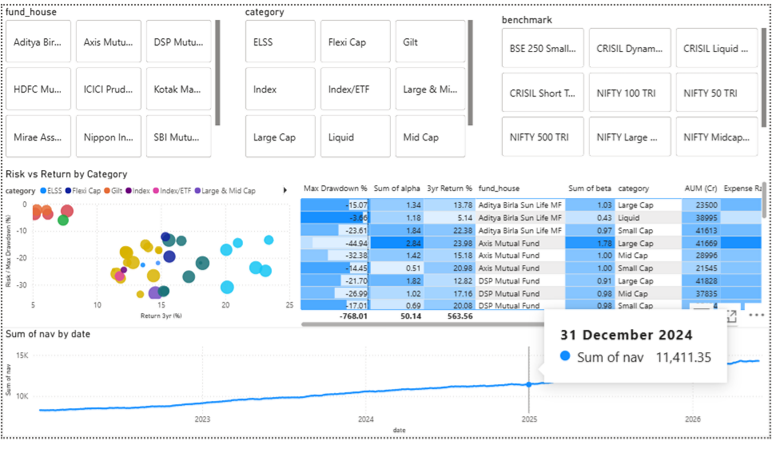

The dashboard page shown, as its layout file describes it:
{"tool":"powerbi","page":{"name":" Fund Performance","canvas":[1280,720],"ordinal":1},"visuals":[{"type":"advancedSlicerVisual","fields":{"Values":["clean_fund_master.fund_house"]},"box":[0,0,368.7,258.5],"z":0},{"type":"advancedSlicerVisual","fields":{"Values":["clean_scheme_performance.category"]},"box":[400,0,390.5,258.5],"z":1000},{"type":"advancedSlicerVisual","fields":{"Values":["clean_fund_master.benchmark"]},"box":[828.6,13.6,451.7,244.9],"z":2000},{"type":"scatterChart","title":"Risk vs Return by Category","fields":{"X":["clean_scheme_performance.return_3yr_pct"],"Y":["Sum(clean_scheme_performance.max_drawdown_pct)"],"Size":["Sum(clean_scheme_performance.aum_crore)"],"Series":["clean_scheme_performance.category"]},"box":[0,269.4,491.2,258.5],"z":3000},{"type":"tableEx","fields":{"Values":["Sum(clean_scheme_performance.max_drawdown_pct)","Sum(clean_scheme_performance.alpha)","Sum(clean_scheme_performance.return_3yr_pct)","clean_fund_master.fund_house","Sum(clean_scheme_performance.beta)","clean_scheme_performance.category","Sum(clean_scheme_performance.aum_crore)","Sum(clean_scheme_performance.expense_ratio_pct)"]},"box":[491.2,288.4,789.1,253.1],"z":4000},{"type":"lineChart","fields":{"Category":["clean_nav_history.date.Variation.Date Hierarchy.Year"],"Y":["Sum(clean_nav_history.nav)"]},"box":[0,537.4,1280.3,182.3],"z":5000}]}

Visuals, with their boxes on the page's 1280x720 design canvas (x1, y1, x2, y2). These are canvas units, not pixel positions in the 781x454 screenshot, which may show the page scaled, cropped or inside an application window:
advancedSlicerVisual - clean_fund_master.fund_house: [x1=0, y1=0, x2=369, y2=258]
advancedSlicerVisual - clean_scheme_performance.category: [x1=400, y1=0, x2=790, y2=258]
advancedSlicerVisual - clean_fund_master.benchmark: [x1=829, y1=14, x2=1280, y2=258]
"Risk vs Return by Category" scatterChart: [x1=0, y1=269, x2=491, y2=528]
tableEx - Sum(clean_scheme_performance.max_drawdown_pct) x Sum(clean_scheme_performance.alpha): [x1=491, y1=288, x2=1280, y2=542]
lineChart - clean_nav_history.date.Variation.Date Hierarchy.Year x Sum(clean_nav_history.nav): [x1=0, y1=537, x2=1280, y2=720]
